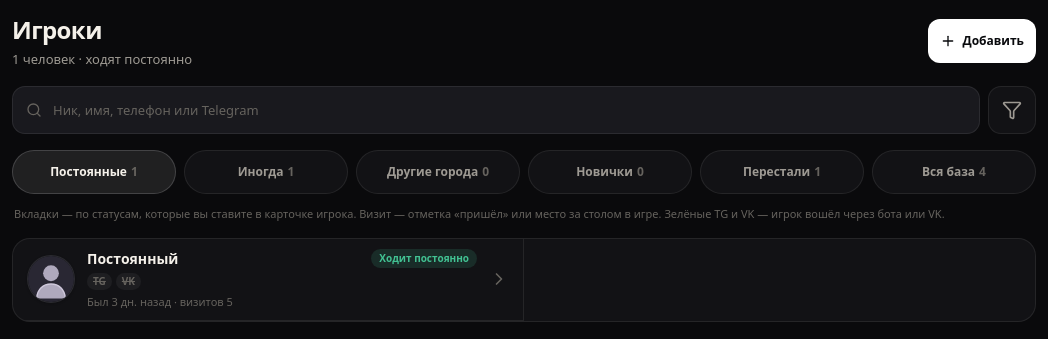
Test: PlayersActivityCRM status tabs › searches the whole base whatever tab is open
Expected: the text "Постоянный" is shown, [87, 248, 178, 268]
Type "Уш" into the field with placeholder "Ник, имя, телефон или Telegram". click: [496, 110]
box: [12, 86, 980, 134]
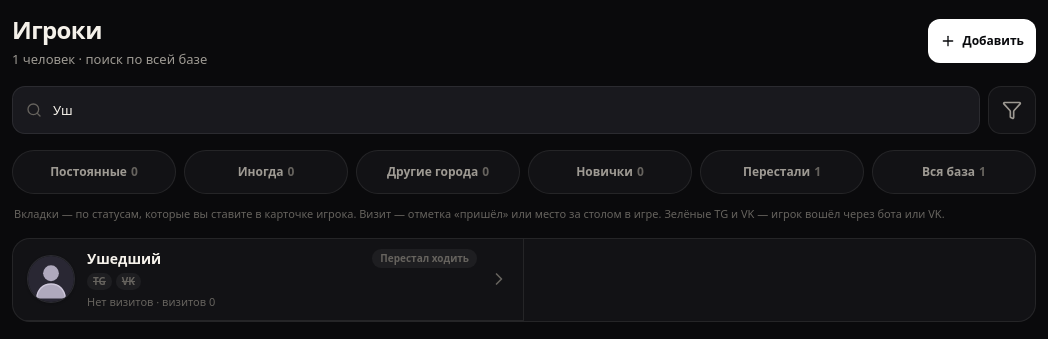
Result: the text "Ушедший" is shown at [87, 248, 161, 268]
Result: the text "1 человек · поиск по всей базе" is shown at [12, 50, 207, 70]
